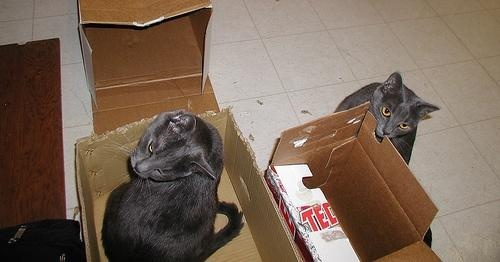cat: (101, 109, 245, 262), (334, 73, 441, 166)
